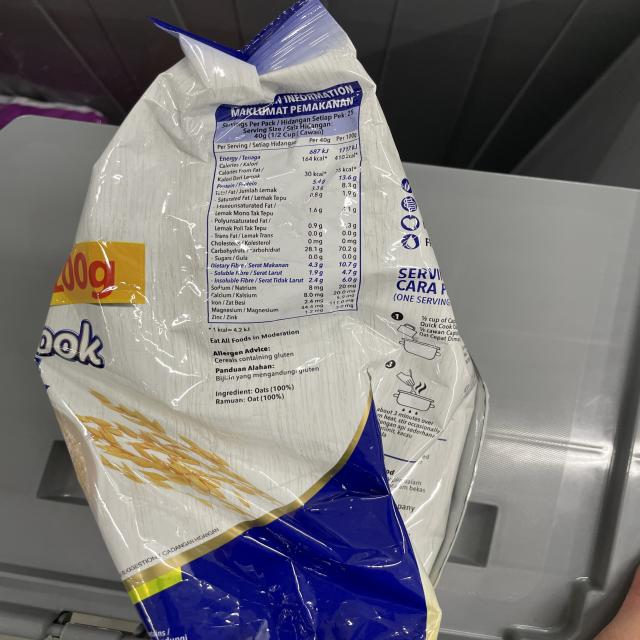object_name: (110, 54, 444, 637)
